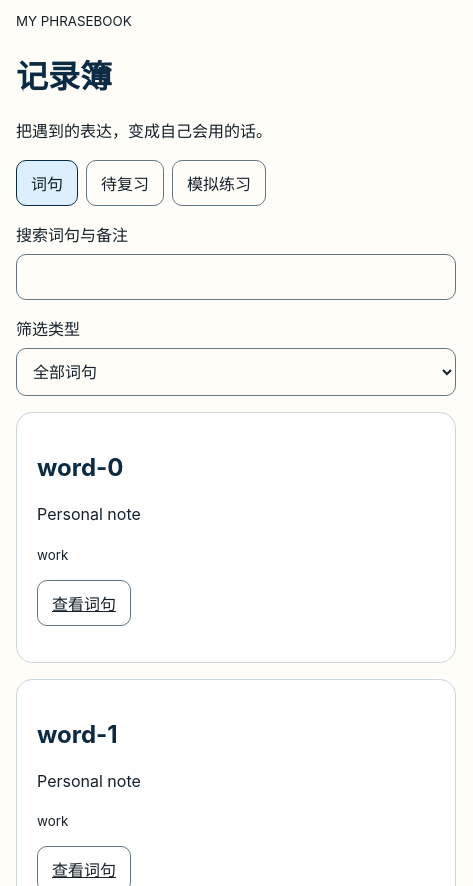
Test: loads many notebook schedule heads in one bounded storage read and preserves alias, tie ordering and deleted-note behavior
expect the heading "word-0" is shown: met, box [37,453,124,482]
Click the tab "待复习". click: {"x": 125, "y": 184}
box: [86,160,164,206]
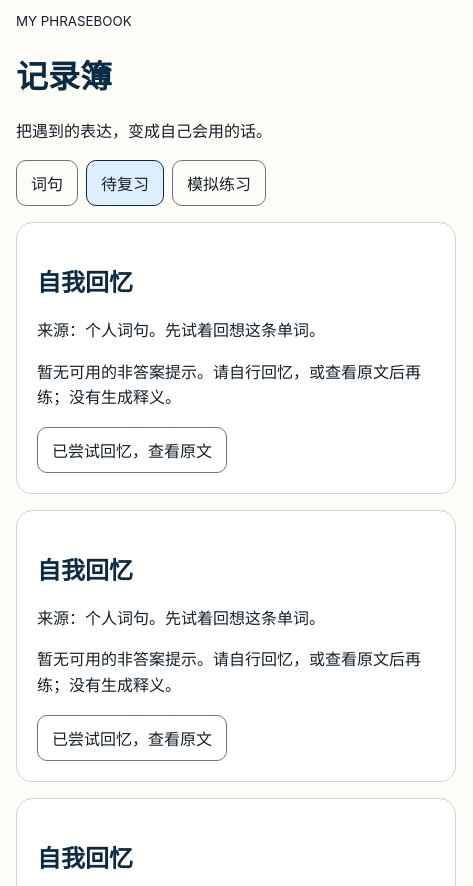
expect the number of buttons "已尝试回忆，查看原文" is 37: met
